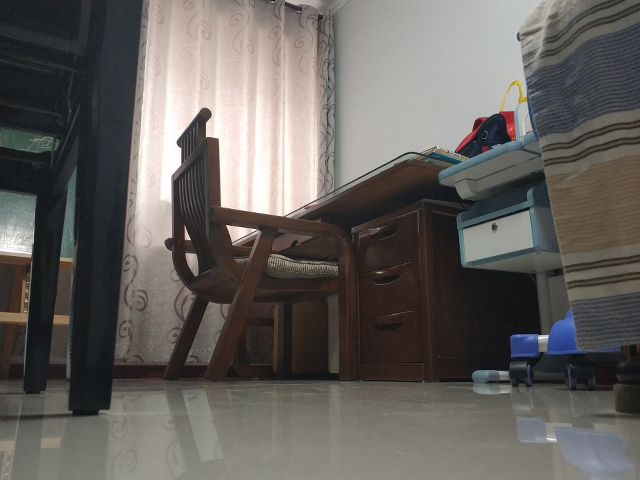curtain: (113, 1, 337, 367)
stool: (162, 105, 363, 383)
table: (226, 148, 547, 378), (438, 130, 573, 385)
